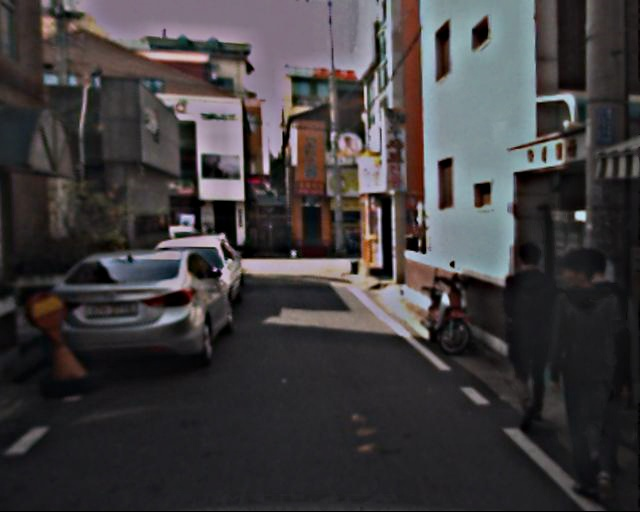person: (530, 256, 639, 495), (487, 243, 565, 429)
